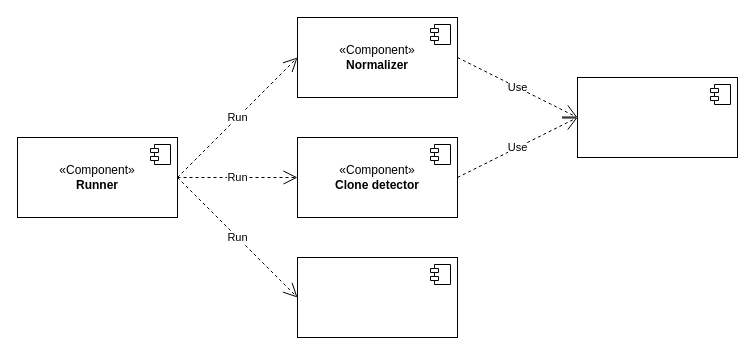
The diagram is 755 pixels wide and 355 high, and some of its shapes have lost their labels. The shapes that lost their labels are listed below. From the top down, each one's box as (x1, y1, x2, y2) in pixels, then its label:
(576, 76, 738, 158): «Component» Parser
(296, 256, 458, 338): «Component» Refactoring engine
